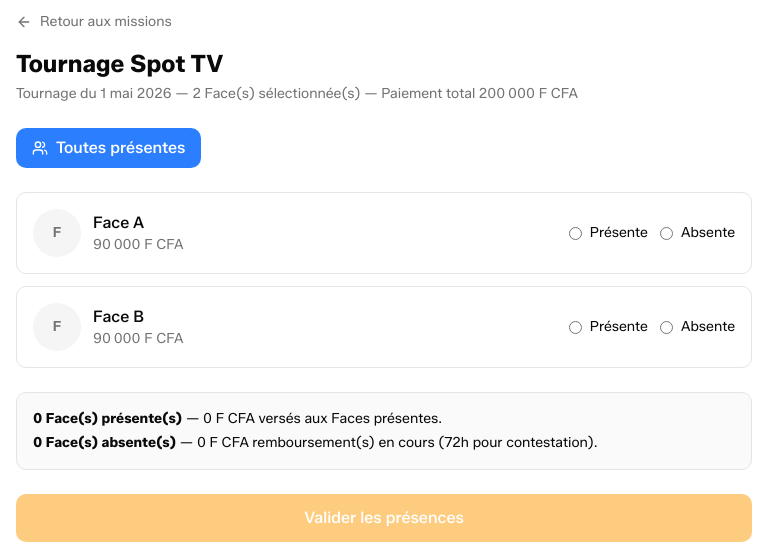
Test: AttendanceValidationPage › "Toutes présentes" overrides previously-marked absent decisions for editable entries
Click the radio button with test id "decision-1-absent" at (666, 233), box [660,226,673,240]
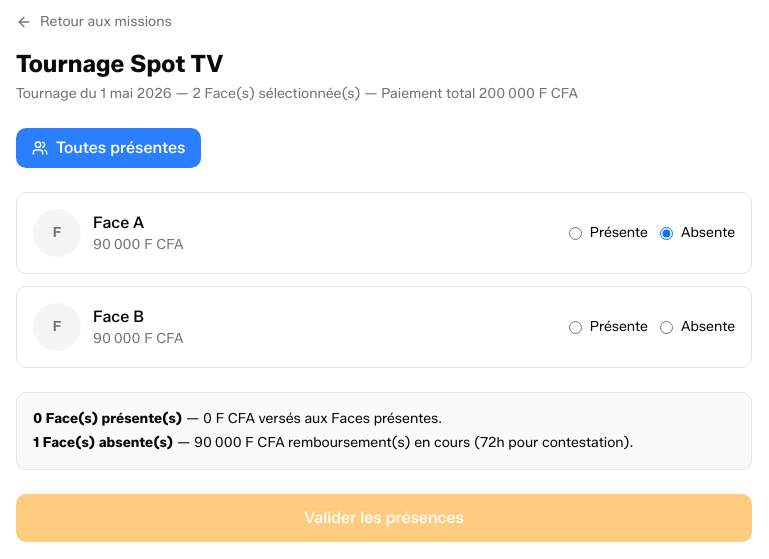
Result: the radio button with test id "decision-1-absent" is checked at [660,226,673,240]
Click the button with test id "mark-all-present-button" at (109, 148), box [16,128,201,168]
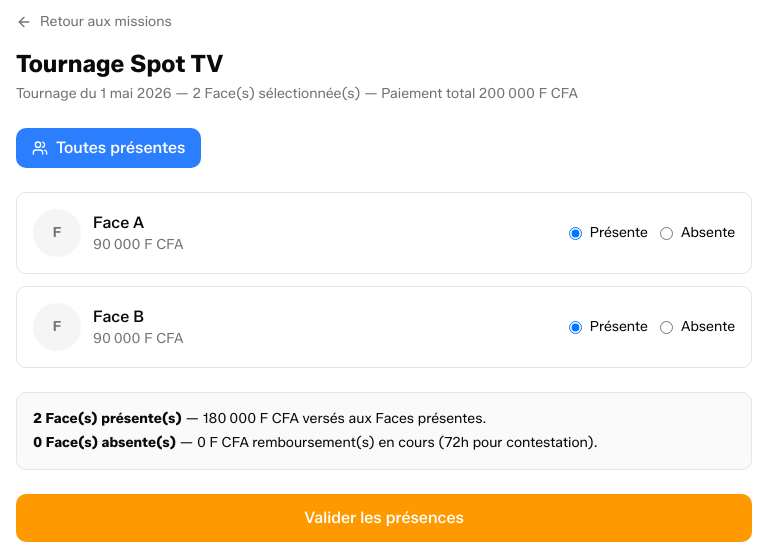
Result: the radio button with test id "decision-1-absent" is not checked at [660,226,673,240]
Result: the radio button with test id "decision-1-present" is checked at [569,226,582,240]
